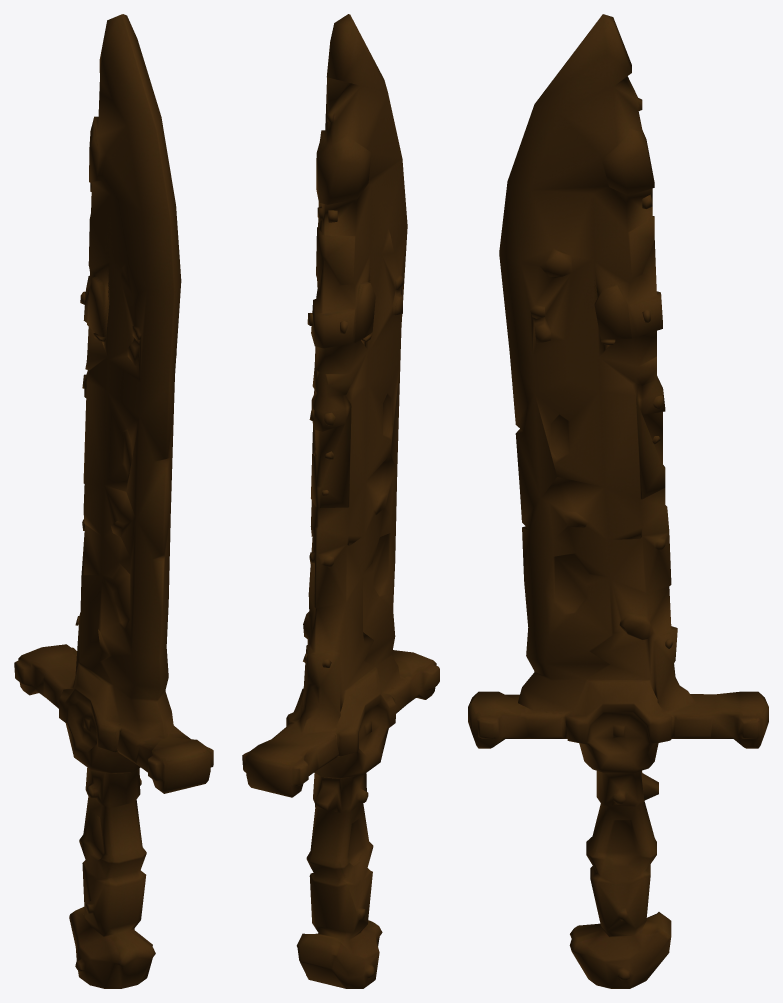
File: emberquench_blade.glb
The picture shows the model from 3 angles, left to right: view 1: azimuth 30°, elevation 25°; view 2: azimuth 150°, elevation 25°; view 3: azimuth 270°, elevation 25°; orthographic projection.
Parts seen in each view (by area): view 1: base_model_path; view 2: base_model_path; view 3: base_model_path.
Part boxes in pixels (x1=…): base_model_path: x1=14, y1=14, x2=213, y2=988; base_model_path: x1=242, y1=14, x2=439, y2=988; base_model_path: x1=468, y1=14, x2=768, y2=988.
Bounding box in the file's own units: 0.0761 × 0.9971 × 0.2829.
1 material, 1 textured.
